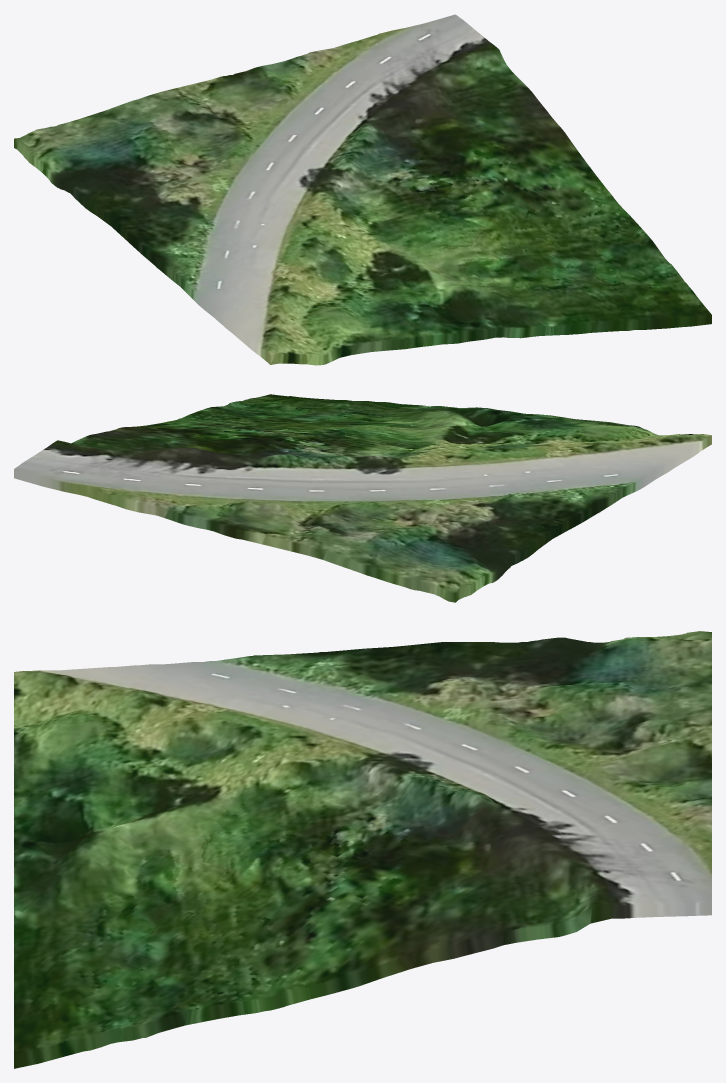
File: z20-167564-405179-h0-yup-uvflip-v3-world.glb
3 views of the same model, one above another, from view 1: azimuth 30°, elevation 25°; view 2: azimuth 150°, elevation 25°; view 3: azimuth 270°, elevation 25° (orthographic). The views are drawn at different scales.
Size of the model in its own units: 30.16 by 7.96 by 30.32.
1 material, 1 textured.
